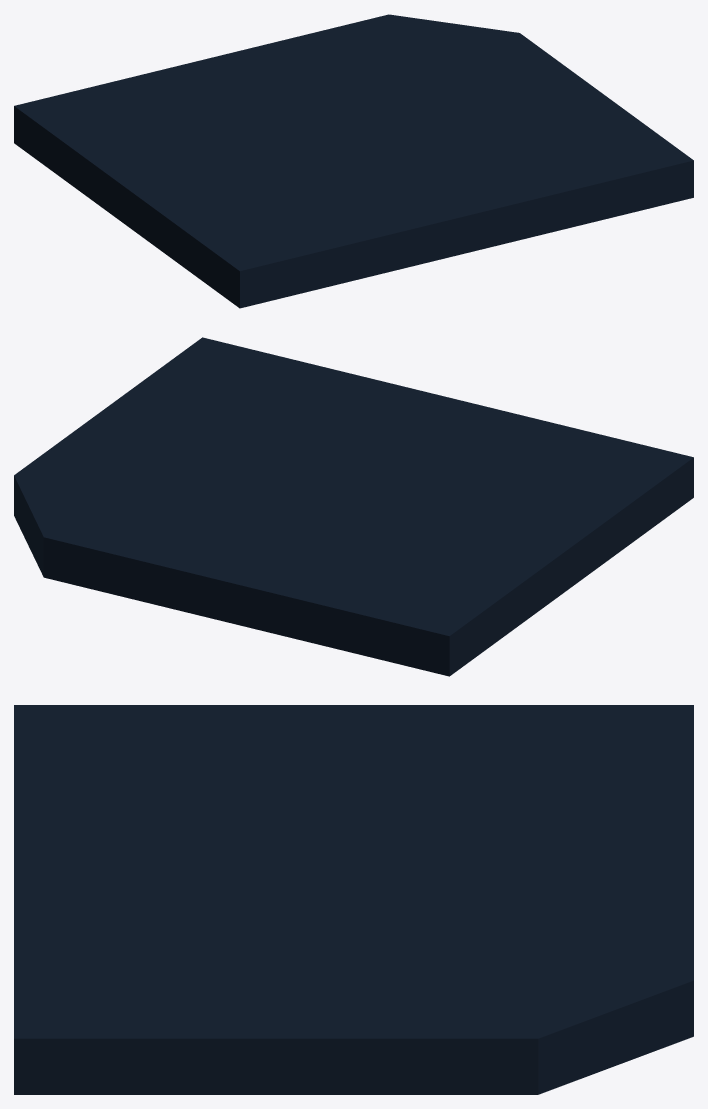
The model's file is Shoot_Floor_l.fbx.
3 renders of one model, top to bottom at view 1: azimuth 30°, elevation 25°; view 2: azimuth 150°, elevation 25°; view 3: azimuth 270°, elevation 25°, orthographic. The views are drawn at different scales.
Parts seen in each view (by area): view 1: Genre.001; view 2: Genre.001; view 3: Genre.001.
Part boxes in pixels (x1=…): Genre.001: x1=14, y1=14, x2=693, y2=308; Genre.001: x1=14, y1=337, x2=693, y2=676; Genre.001: x1=14, y1=705, x2=693, y2=1094.
Bounding box in the file's own units: 892 × 769 × 70.
